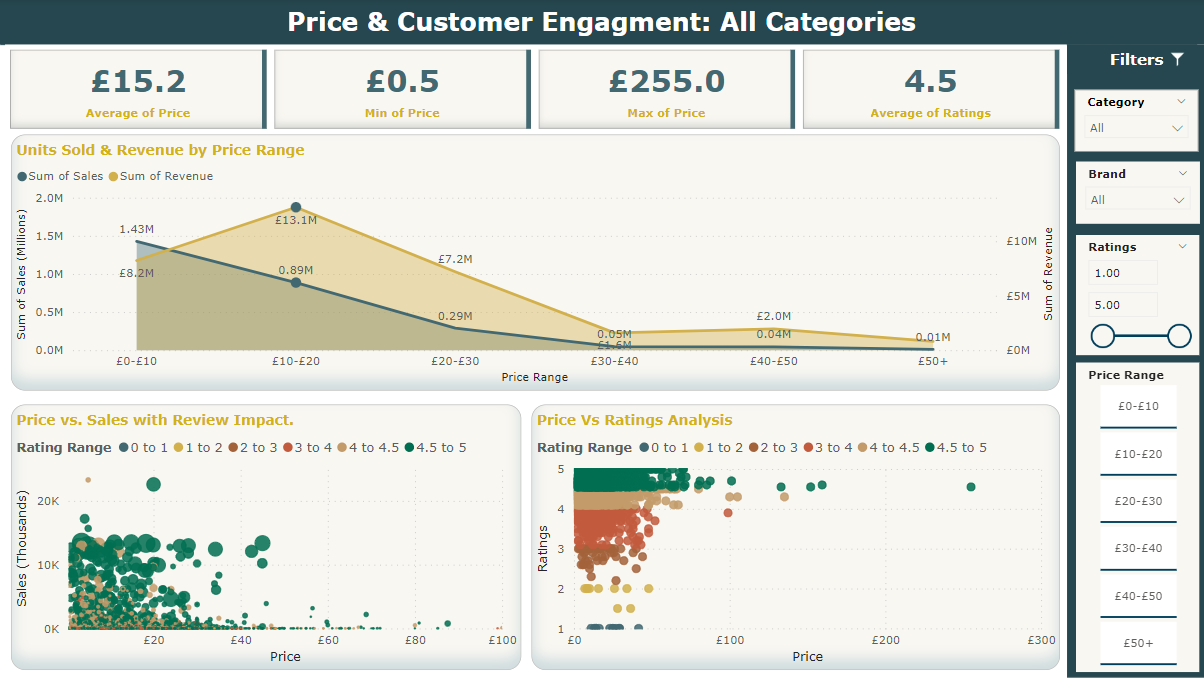

The dashboard page shown, as its layout file describes it:
{"tool":"powerbi","page":{"name":"Price Analysis","canvas":[1280,720],"ordinal":1},"visuals":[{"type":"shape","box":[1131.9,49.3,147.8,670.7],"z":0},{"type":"textbox","box":[0,0,1280,50],"z":1000},{"type":"slicer","fields":{"Values":["Data.Brand"]},"box":[1140.9,172.8,131,66.3],"z":2000},{"type":"slicer","fields":{"Values":["Data.Ratings"]},"box":[1140.9,251.6,130.7,127.2],"z":3000},{"type":"slicer","fields":{"Values":["Data.Price Range"]},"box":[1140.9,386,130.7,327.8],"z":4000},{"type":"textbox","box":[1131.9,49.3,147.8,31.3],"z":5000},{"type":"slicer","fields":{"Values":["Data.Category"]},"box":[1139.1,97.6,131.6,66.3],"z":6000},{"type":"image","box":[1233.1,49.3,30.4,31.3],"z":7000},{"type":"card","fields":{"Values":["Data.Title"]},"box":[2,2,1268,48],"z":8000},{"type":"cardVisual","fields":{"Data":["Avg(Data.Price)","Min(Data.Price)1","Max(Data.Price)2","Avg(Data.Ratings)"]},"box":[7.1,49.4,1124.8,95.7],"z":9000},{"type":"scatterChart","title":"Price vs. Sales with Review Impact.","fields":{"X":["Data.Price"],"Y":["Data.Sales"],"Size":["Sum(Data.Review Count)"],"Series":["Data.Review Range"]},"box":[12.7,430.7,540.4,281.3],"z":10000},{"type":"areaChart","title":"Units Sold & Revenue by Price Range","fields":{"Y":["Sum(Data.Sales)"],"Y2":["Sum(Data.Revenue)"],"Category":["Data.Price Range"]},"box":[12.5,145,1111.2,271.2],"z":11000},{"type":"scatterChart","title":"Price Vs Ratings Analysis","fields":{"X":["Data.Price"],"Y":["Data.Ratings"],"Series":["Data.Rating Range"]},"box":[563.8,431.2,560,281.2],"z":12000}]}

Visuals, with their boxes in screenshot pixels (x1, y1, x2, y2), scaled from the page's 1280x720 canvas onto the 1204x678 screenshot:
shape: 1065/46/1203/677
textbox: 0/0/1203/47
slicer - Data.Brand: 1073/163/1196/225
slicer - Data.Ratings: 1073/237/1196/357
slicer - Data.Price Range: 1073/363/1196/672
textbox: 1065/46/1203/76
slicer - Data.Category: 1071/92/1195/154
image: 1160/46/1188/76
card - Data.Title: 2/2/1195/47
cardVisual - Avg(Data.Price) x Min(Data.Price)1: 7/47/1065/137
"Price vs. Sales with Review Impact." scatterChart: 12/406/520/670
"Units Sold & Revenue by Price Range" areaChart: 12/137/1057/392
"Price Vs Ratings Analysis" scatterChart: 530/406/1057/671
